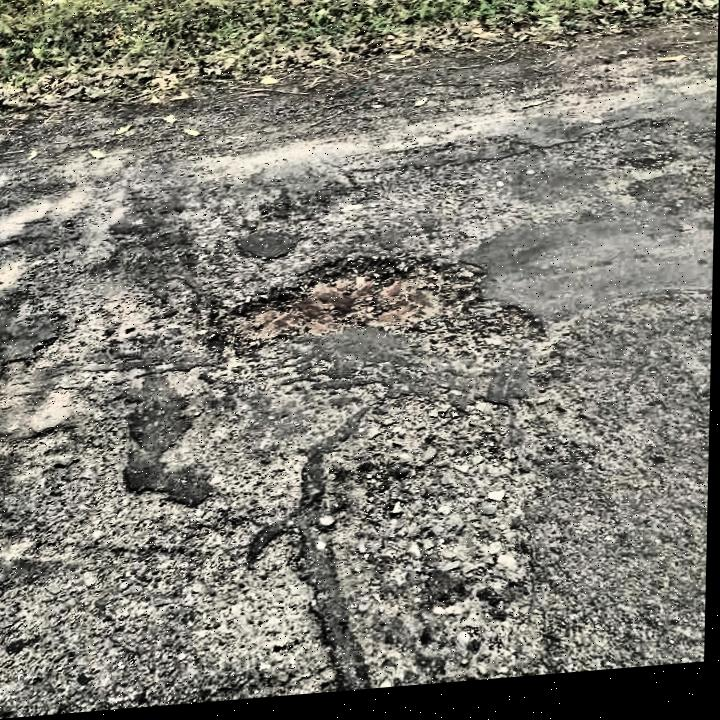pothole: (208, 242, 553, 385)
